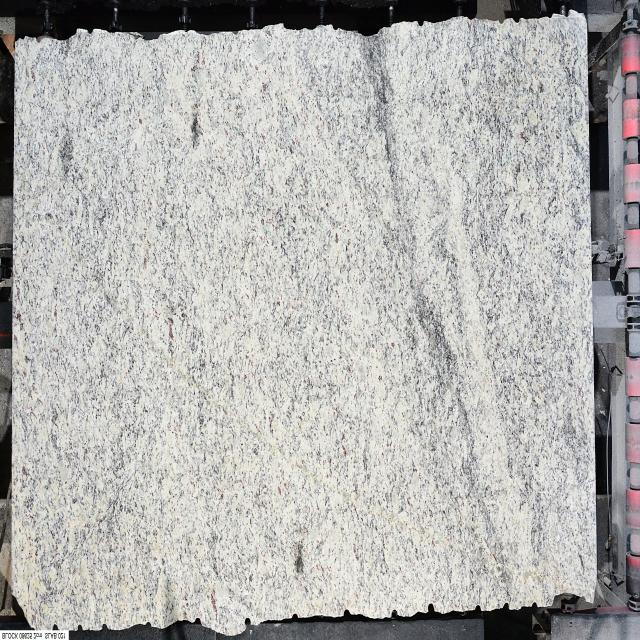chapa: (12, 10, 596, 634)
